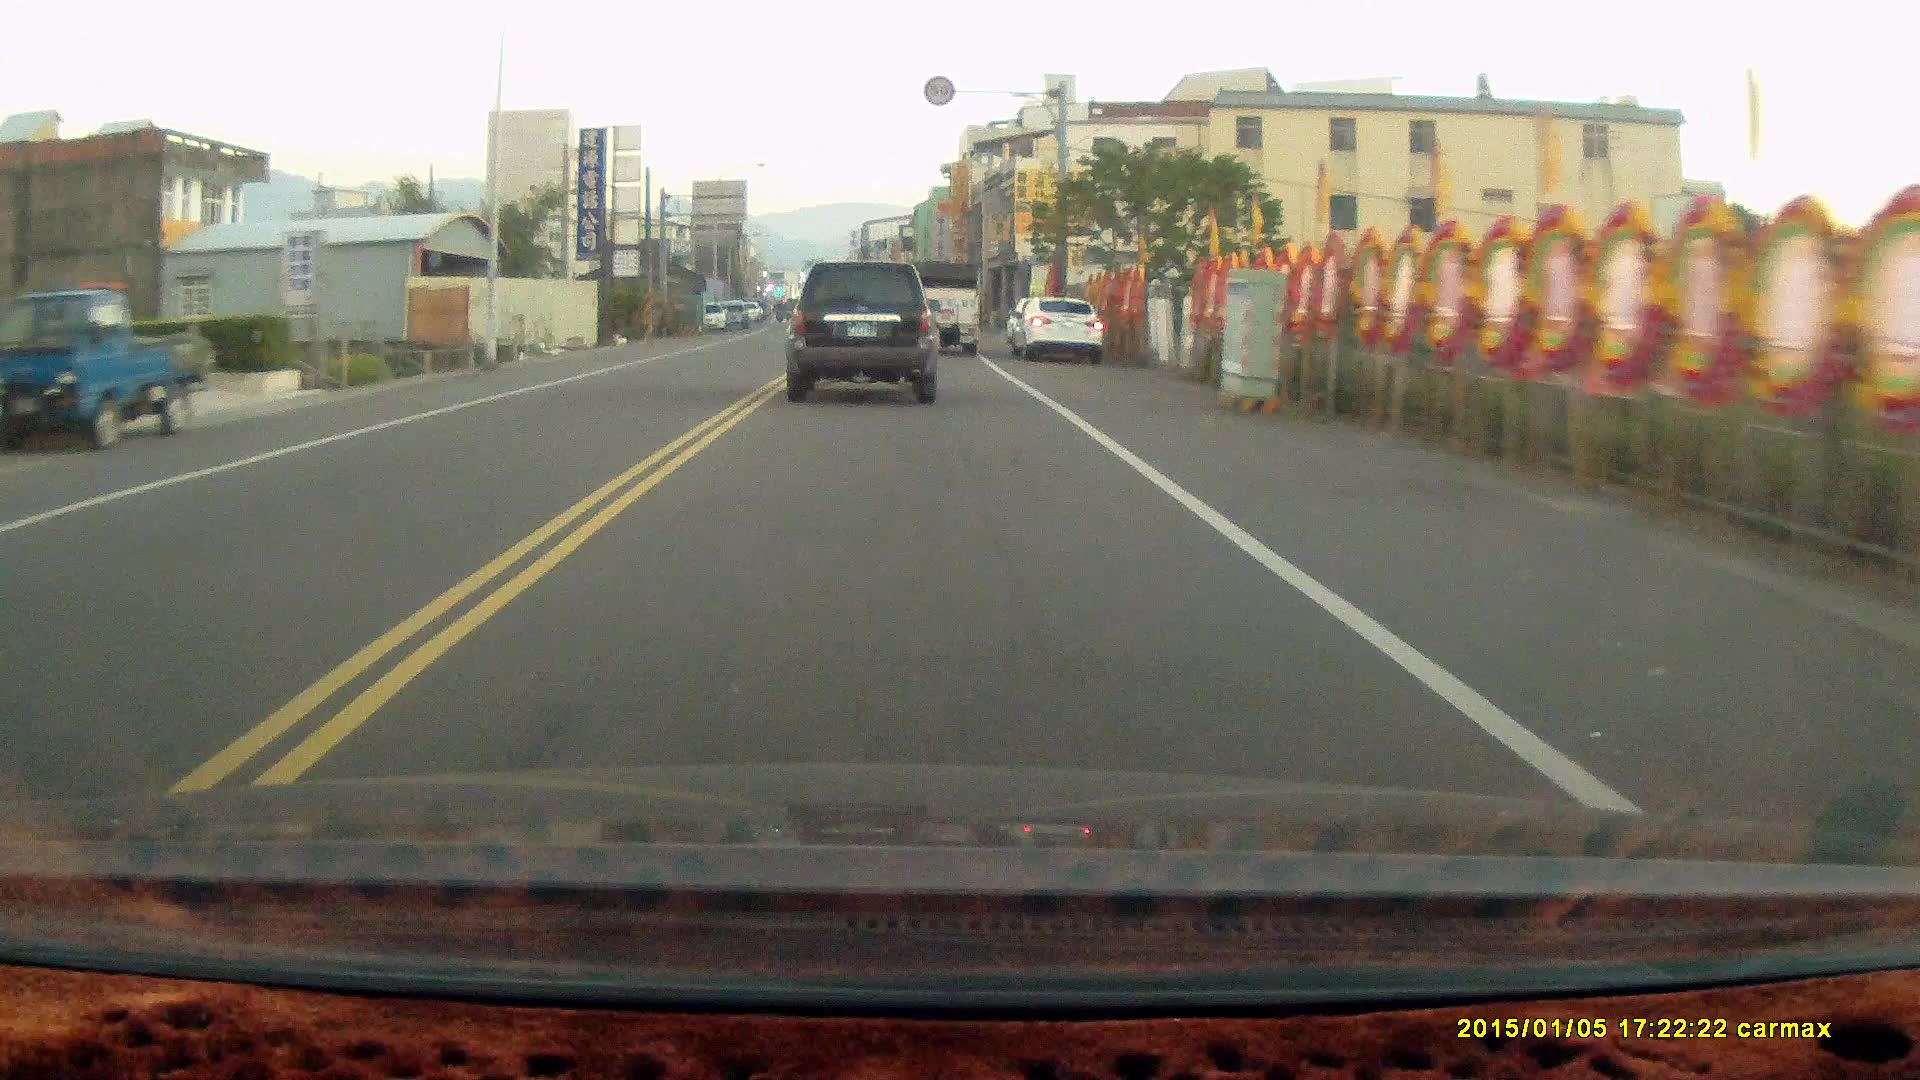vehicle: (7, 287, 214, 456), (787, 258, 938, 404), (910, 258, 986, 357), (1010, 299, 1108, 364)
